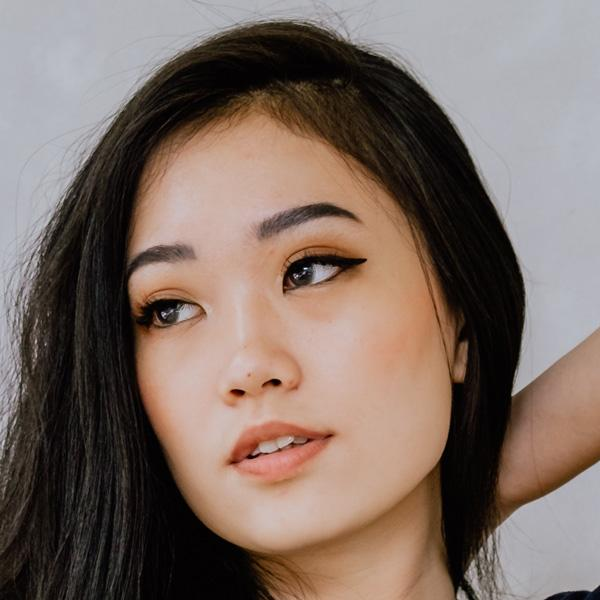Eyes: (273, 238, 368, 302), (132, 280, 216, 350)
